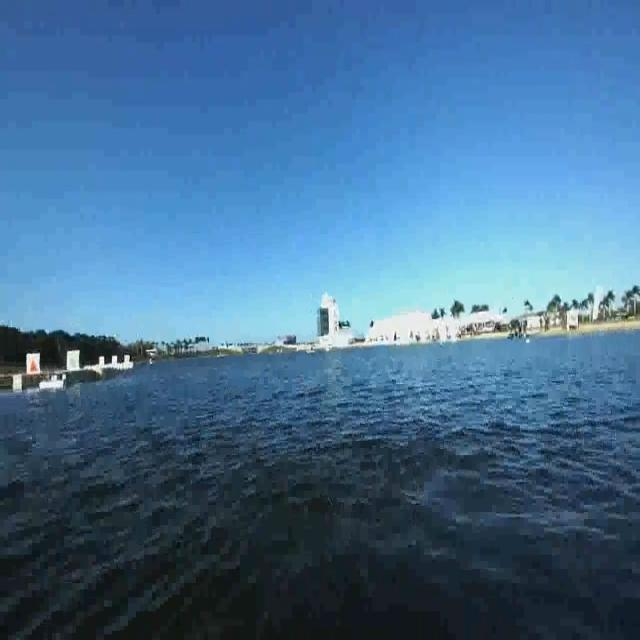red-dot: (26, 354, 39, 375)
